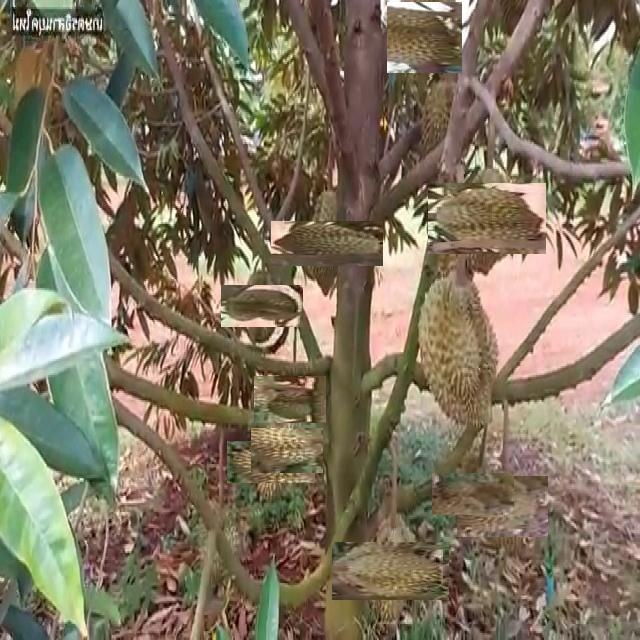durian: (416, 266, 502, 429), (440, 171, 535, 266), (347, 527, 435, 615), (287, 203, 367, 283), (464, 468, 541, 545), (414, 77, 474, 174), (388, 1, 461, 75), (238, 429, 303, 495), (441, 463, 504, 525), (231, 275, 293, 338), (260, 369, 320, 429), (258, 420, 316, 480)
